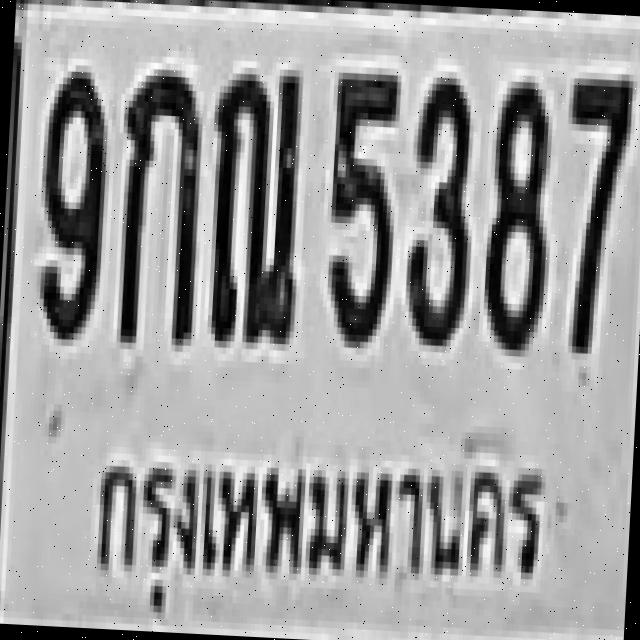10GorGai: (112, 61, 202, 346)
28NorNen: (203, 59, 304, 344)
3: (400, 70, 472, 340)
5: (321, 66, 398, 343)
7: (556, 72, 630, 348)
8: (478, 73, 551, 344)
9: (34, 64, 111, 341)
